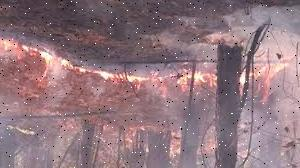fire: (84, 64, 218, 96), (0, 35, 77, 72), (242, 61, 294, 103)
